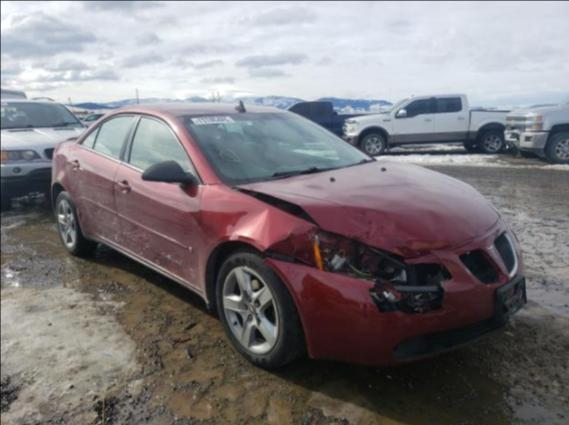Broken part: (261, 215, 527, 365), (231, 159, 501, 259), (196, 183, 335, 292), (311, 233, 455, 285)
Dent: (299, 273, 368, 315), (342, 208, 414, 244), (211, 201, 261, 234), (268, 235, 312, 261), (351, 182, 411, 191), (407, 238, 447, 249), (424, 207, 440, 234), (391, 246, 414, 256), (305, 184, 324, 190)
Missing part: (334, 246, 414, 284), (458, 248, 499, 284), (501, 278, 524, 317)
Paint chip: (422, 304, 449, 316), (368, 305, 376, 313)
